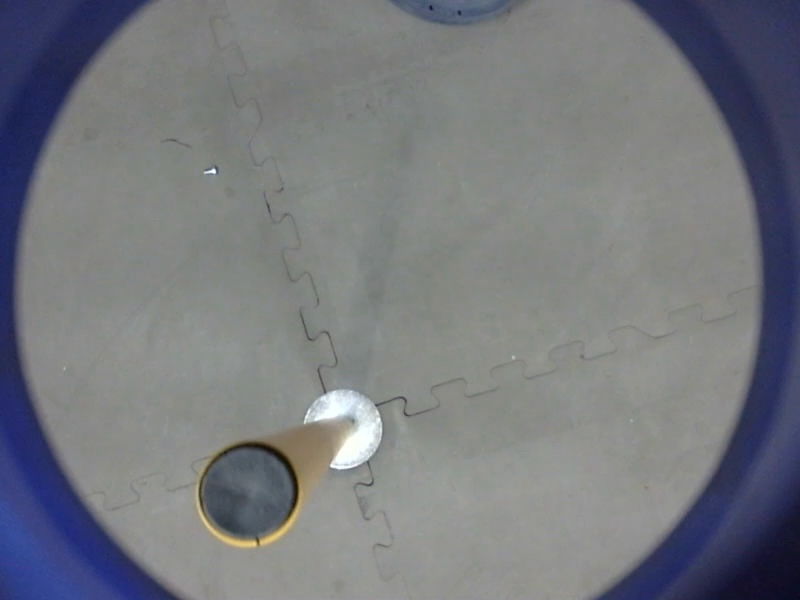tip: (191, 436, 306, 553)
